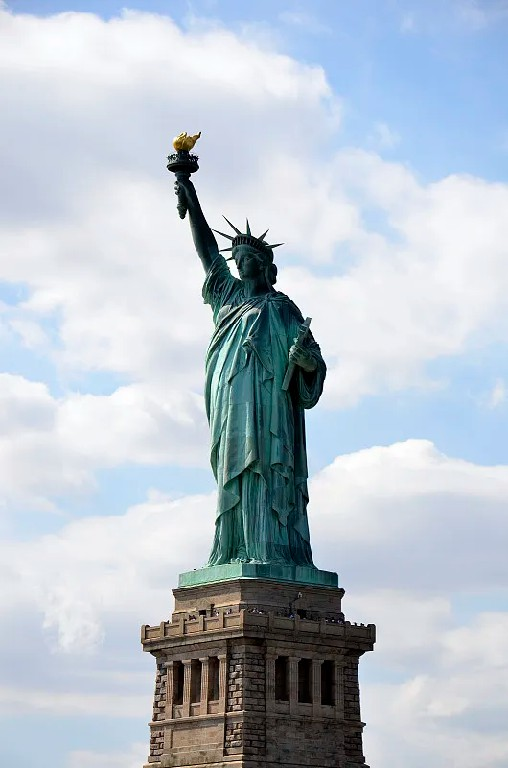SL: (141, 131, 377, 768)
